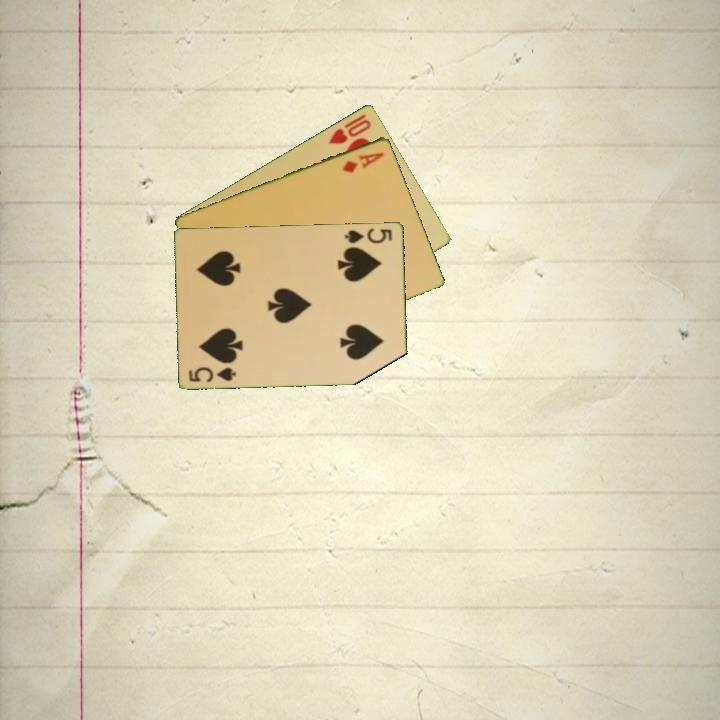10h: (325, 110, 374, 147)
5s: (341, 225, 395, 246), (185, 363, 239, 384)
Ad: (339, 148, 387, 176)
